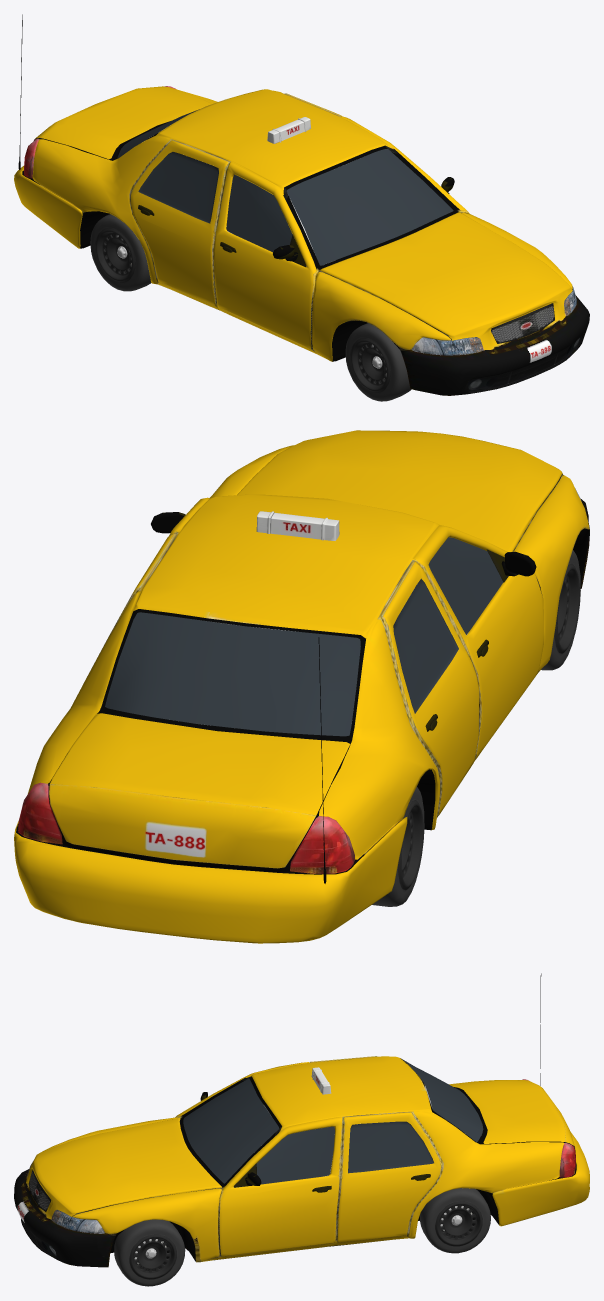
File: crown_vic_taxi.glb
3 views of the same model, one above another, from view 1: azimuth 30°, elevation 25°; view 2: azimuth 150°, elevation 25°; view 3: azimuth 270°, elevation 25° (orthographic). The views are drawn at different scales.
Parts seen in each view (by area): view 1: CrownVic.Body.001, windows glass.002, CrownVic.Wheel.Ft.R.001, CrownVic.Wheel.Bk.R.001; view 2: CrownVic.Body.001, windows glass.002, CrownVic.Wheel.Bk.R.001, CrownVic.Wheel.Ft.R.001; view 3: CrownVic.Body.001, windows glass.002, CrownVic.Wheel.Ft.L.001, CrownVic.Wheel.Bk.L.001.
Part boxes in pixels (bbox=[...]): CrownVic.Body.001: bbox=[14, 14, 589, 395]; windows glass.002: bbox=[117, 109, 453, 266]; CrownVic.Wheel.Ft.R.001: bbox=[345, 323, 411, 401]; CrownVic.Wheel.Bk.R.001: bbox=[90, 214, 151, 291]; CrownVic.Body.001: bbox=[14, 430, 589, 943]; windows glass.002: bbox=[105, 537, 503, 736]; CrownVic.Wheel.Bk.R.001: bbox=[372, 787, 424, 906]; CrownVic.Wheel.Ft.R.001: bbox=[541, 550, 580, 670]; CrownVic.Body.001: bbox=[14, 973, 589, 1267]; windows glass.002: bbox=[183, 1059, 483, 1184]; CrownVic.Wheel.Ft.L.001: bbox=[114, 1219, 185, 1286]; CrownVic.Wheel.Bk.L.001: bbox=[420, 1188, 490, 1253].
Bounding box in the file's own units: 3.46 × 2.46 × 6.55.
Materials: 5 (3 with a texture image).
